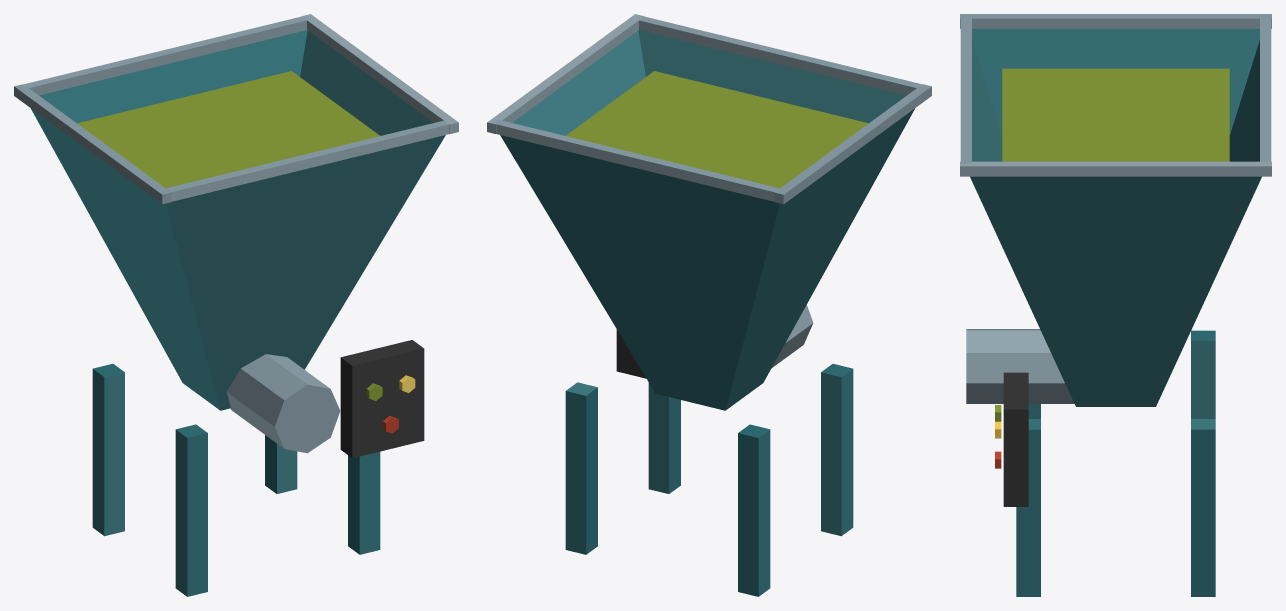
Rendered from N04_Mixer.fbx.
3 views of the same model, side by side, from view 1: azimuth 30°, elevation 25°; view 2: azimuth 150°, elevation 25°; view 3: azimuth 270°, elevation 25° (orthographic). The views are drawn at different scales.
Parts seen in each view (by area): view 1: N04_Mixer.003; view 2: N04_Mixer.003; view 3: N04_Mixer.003.
Boxes of the visible parts, x1,y1,x2,y2 form: N04_Mixer.003: (14,14,458,596); N04_Mixer.003: (487,14,931,596); N04_Mixer.003: (960,14,1271,596).
Size of the model in its own units: 1.44 by 2.02 by 1.25.
